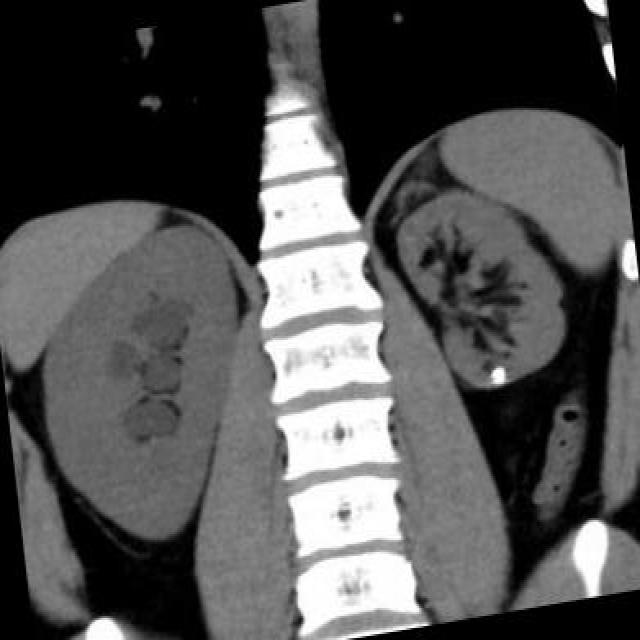Tas_Var: (488, 363, 510, 387)
